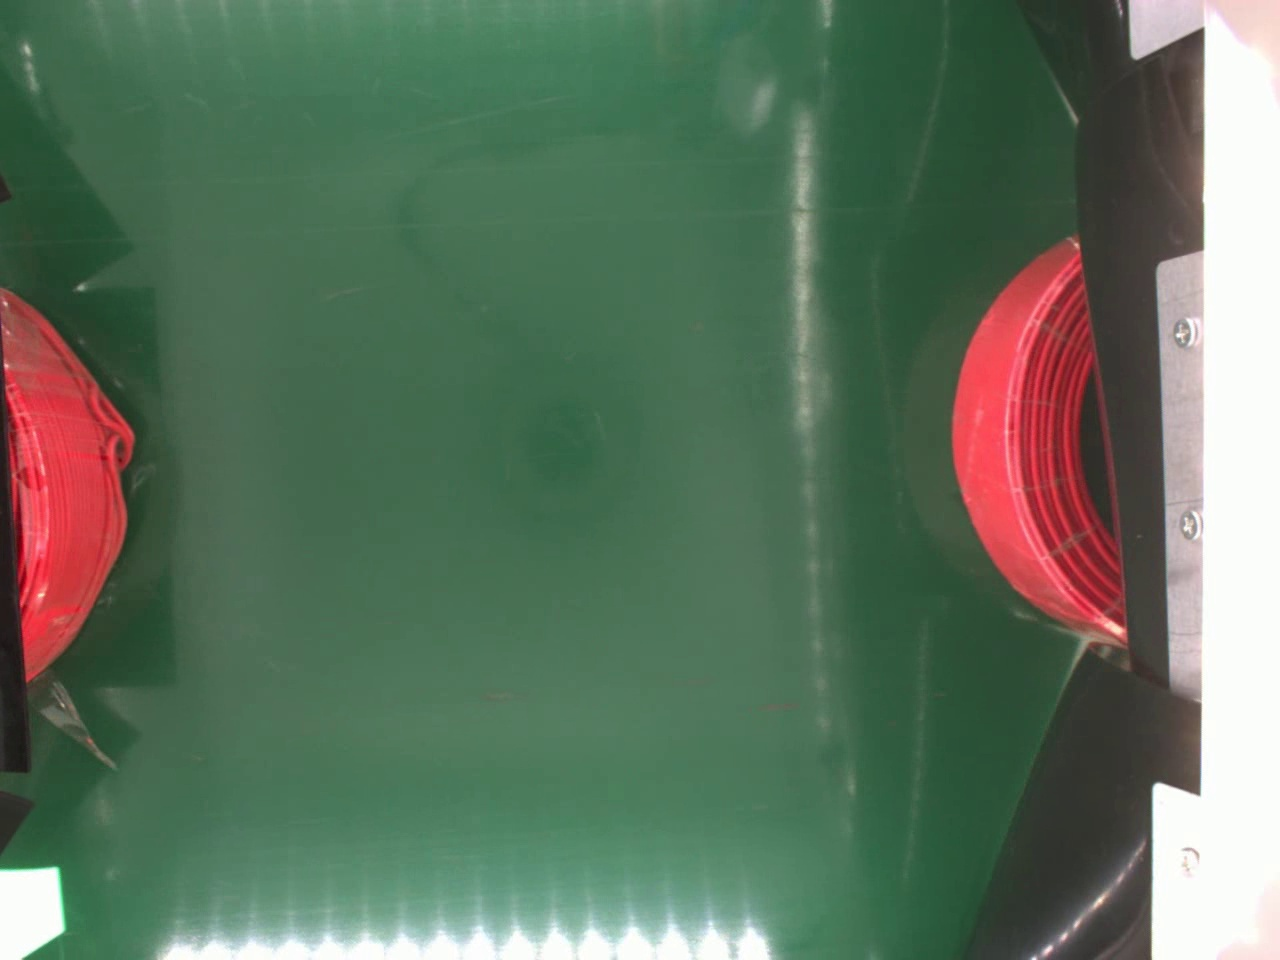red: (955, 234, 1130, 646), (0, 288, 142, 688)
